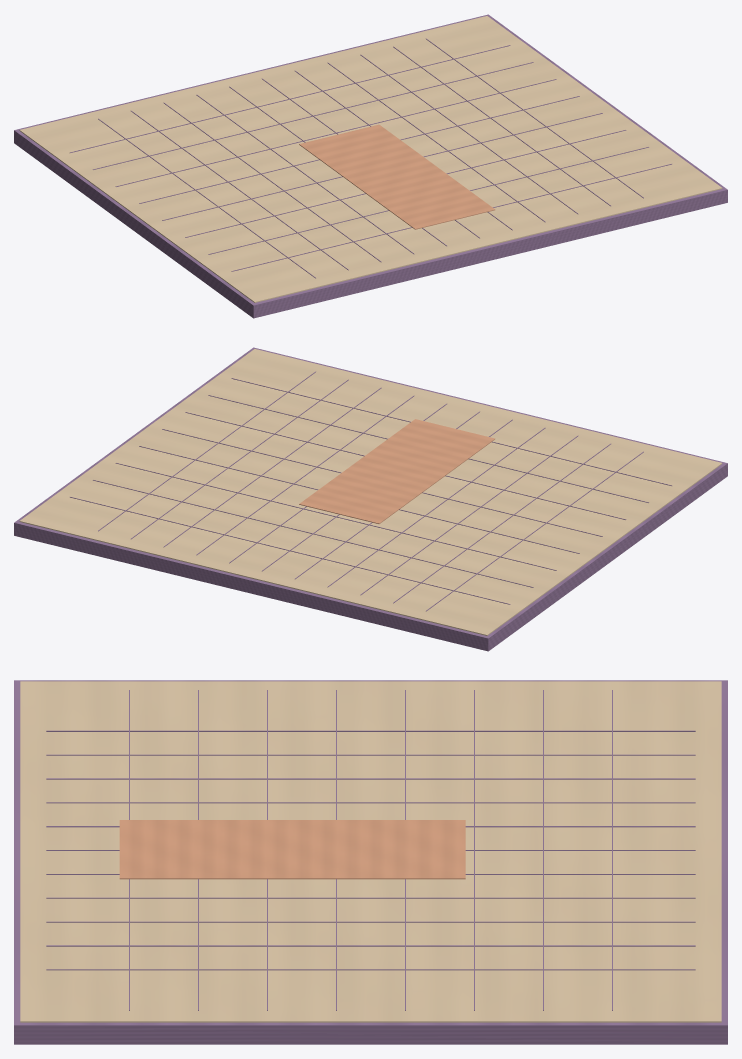
The model's file is atlas100-s083-a07.glb.
3 renders of one model, top to bottom at view 1: azimuth 30°, elevation 25°; view 2: azimuth 150°, elevation 25°; view 3: azimuth 270°, elevation 25°, orthographic. The views are drawn at different scales.
Visible parts, largest first — view 1: atlas100-s083-a07:part-001, atlas100-s083-a07:part-000, atlas100-s083-a07:part-021, atlas100-s083-a07:part-013, atlas100-s083-a07:part-015, atlas100-s083-a07:part-014, atlas100-s083-a07:part-020, atlas100-s083-a07:part-018, atlas100-s083-a07:part-019, atlas100-s083-a07:part-017, atlas100-s083-a07:part-016; view 2: atlas100-s083-a07:part-001, atlas100-s083-a07:part-000, atlas100-s083-a07:part-021, atlas100-s083-a07:part-013, atlas100-s083-a07:part-014, atlas100-s083-a07:part-015, atlas100-s083-a07:part-020, atlas100-s083-a07:part-019, atlas100-s083-a07:part-018, atlas100-s083-a07:part-016, atlas100-s083-a07:part-017; view 3: atlas100-s083-a07:part-001, atlas100-s083-a07:part-000, atlas100-s083-a07:part-021, atlas100-s083-a07:part-004, atlas100-s083-a07:part-010, atlas100-s083-a07:part-011, atlas100-s083-a07:part-012, atlas100-s083-a07:part-005, atlas100-s083-a07:part-009, atlas100-s083-a07:part-003, atlas100-s083-a07:part-002, atlas100-s083-a07:part-006.
Boxes of the visible parts, <box> form: atlas100-s083-a07:part-001: <box>19,16,722,302</box>; atlas100-s083-a07:part-000: <box>14,14,727,318</box>; atlas100-s083-a07:part-021: <box>299,124,495,229</box>; atlas100-s083-a07:part-013: <box>70,45,510,152</box>; atlas100-s083-a07:part-015: <box>115,79,556,186</box>; atlas100-s083-a07:part-014: <box>93,62,533,169</box>; atlas100-s083-a07:part-020: <box>231,164,671,271</box>; atlas100-s083-a07:part-018: <box>185,130,626,237</box>; atlas100-s083-a07:part-019: <box>208,147,648,254</box>; atlas100-s083-a07:part-017: <box>162,113,602,220</box>; atlas100-s083-a07:part-016: <box>139,96,579,203</box>; atlas100-s083-a07:part-001: <box>19,349,722,635</box>; atlas100-s083-a07:part-000: <box>14,347,727,651</box>; atlas100-s083-a07:part-021: <box>299,419,494,523</box>; atlas100-s083-a07:part-013: <box>70,497,510,604</box>; atlas100-s083-a07:part-014: <box>93,480,533,587</box>; atlas100-s083-a07:part-015: <box>115,463,556,570</box>; atlas100-s083-a07:part-020: <box>231,378,671,485</box>; atlas100-s083-a07:part-019: <box>208,395,648,502</box>; atlas100-s083-a07:part-018: <box>185,412,626,519</box>; atlas100-s083-a07:part-016: <box>139,446,579,553</box>; atlas100-s083-a07:part-017: <box>162,429,602,536</box>; atlas100-s083-a07:part-001: <box>20,681,721,1022</box>; atlas100-s083-a07:part-000: <box>14,680,727,1044</box>; atlas100-s083-a07:part-021: <box>119,820,465,879</box>; atlas100-s083-a07:part-004: <box>46,778,695,779</box>; atlas100-s083-a07:part-010: <box>46,921,695,922</box>; atlas100-s083-a07:part-011: <box>46,945,695,946</box>; atlas100-s083-a07:part-012: <box>46,969,695,970</box>; atlas100-s083-a07:part-005: <box>46,802,695,803</box>; atlas100-s083-a07:part-009: <box>46,897,695,898</box>; atlas100-s083-a07:part-003: <box>46,754,695,755</box>; atlas100-s083-a07:part-002: <box>46,730,695,731</box>; atlas100-s083-a07:part-006: <box>46,826,695,827</box>.
Bounding box in the file's own units: 13.02 × 0.404 × 11.39.
3 materials, 3 textured.
